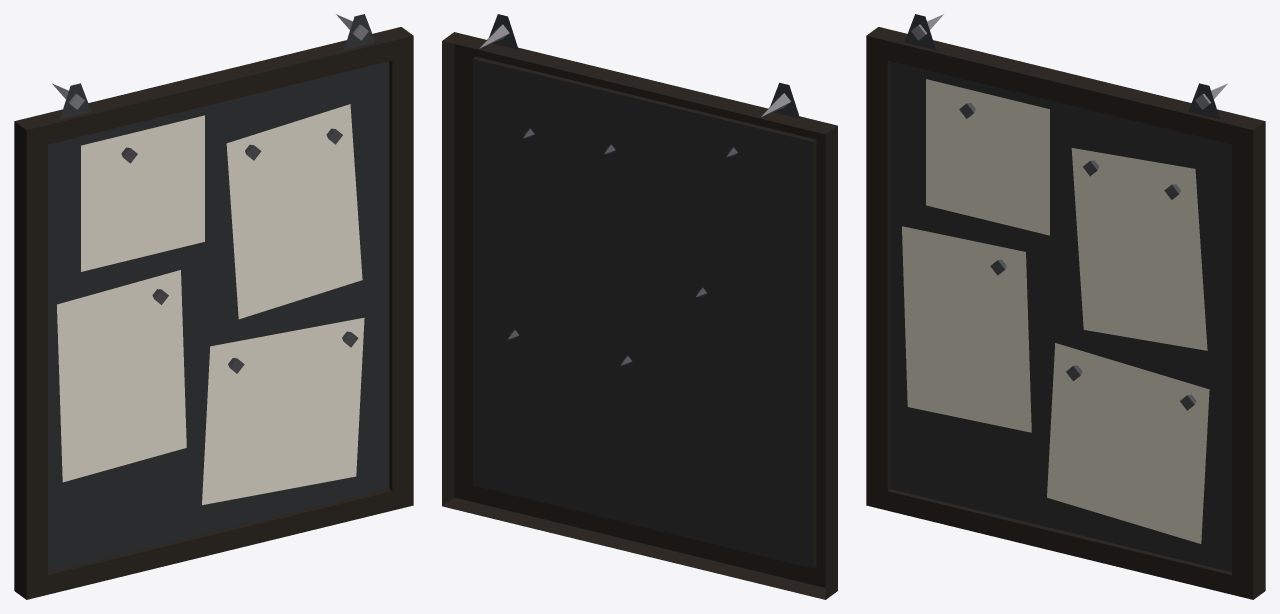
File: Paint_Notice_3.fbx
3 renders of one model, left to right at view 1: azimuth 30°, elevation 25°; view 2: azimuth 150°, elevation 25°; view 3: azimuth 330°, elevation 25°, orthographic.
Parts seen in each view (by area): view 1: polySurface1485; view 2: polySurface1485; view 3: polySurface1485.
Boxes of the visible parts, box(x1,y1,x2,y2) form: polySurface1485: box(14, 14, 413, 599); polySurface1485: box(442, 14, 837, 599); polySurface1485: box(866, 14, 1265, 599).
Size of the model in its own units: 185 by 229 by 23.44.
